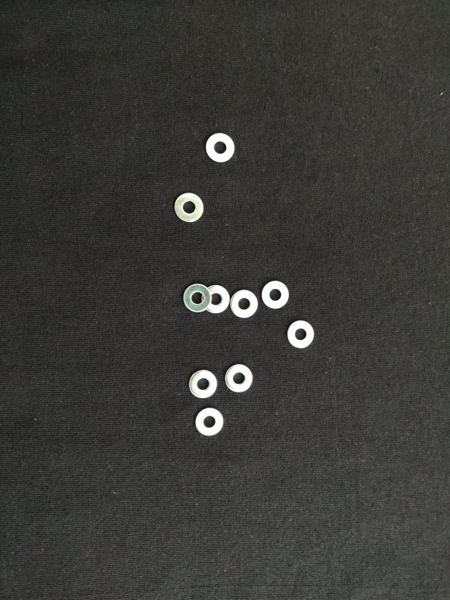circles: (228, 287, 260, 323), (182, 281, 213, 317), (224, 360, 255, 396), (189, 366, 220, 402), (194, 403, 225, 439), (205, 131, 236, 166), (174, 190, 205, 225), (201, 282, 232, 317), (260, 278, 291, 313), (286, 317, 317, 352)
